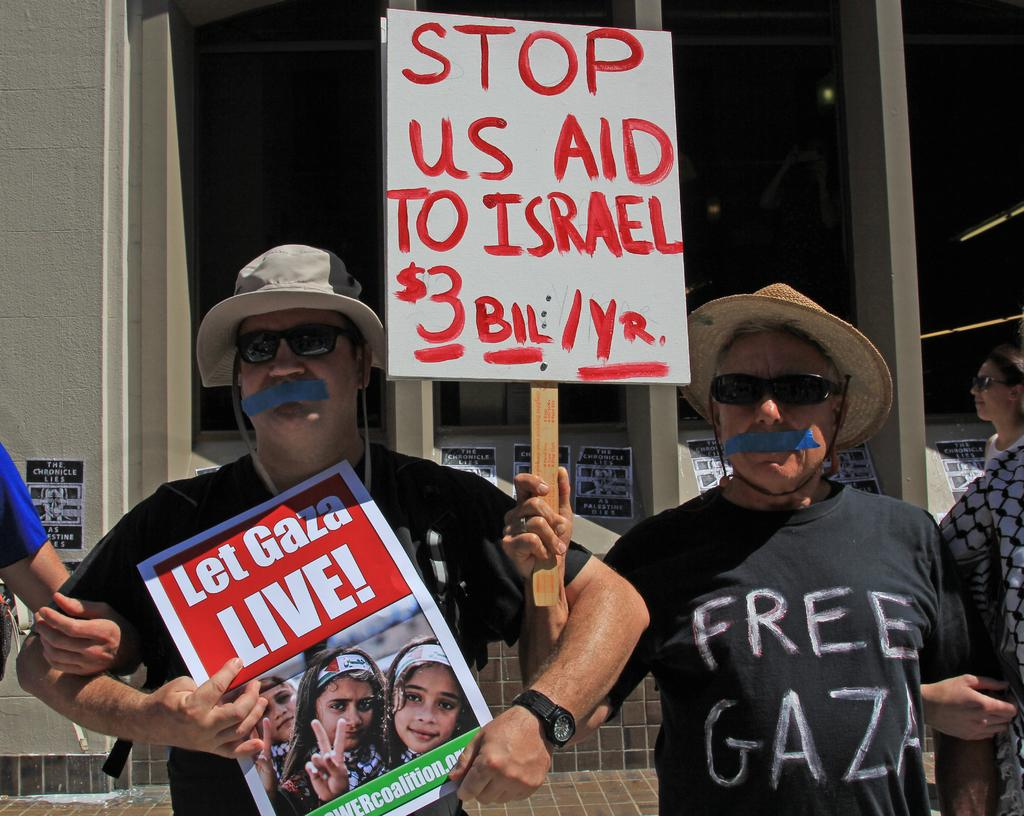Hat: (680, 280, 893, 499), (196, 240, 385, 392)
